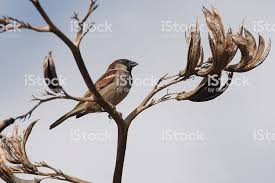hsparrow: (43, 52, 144, 131)
